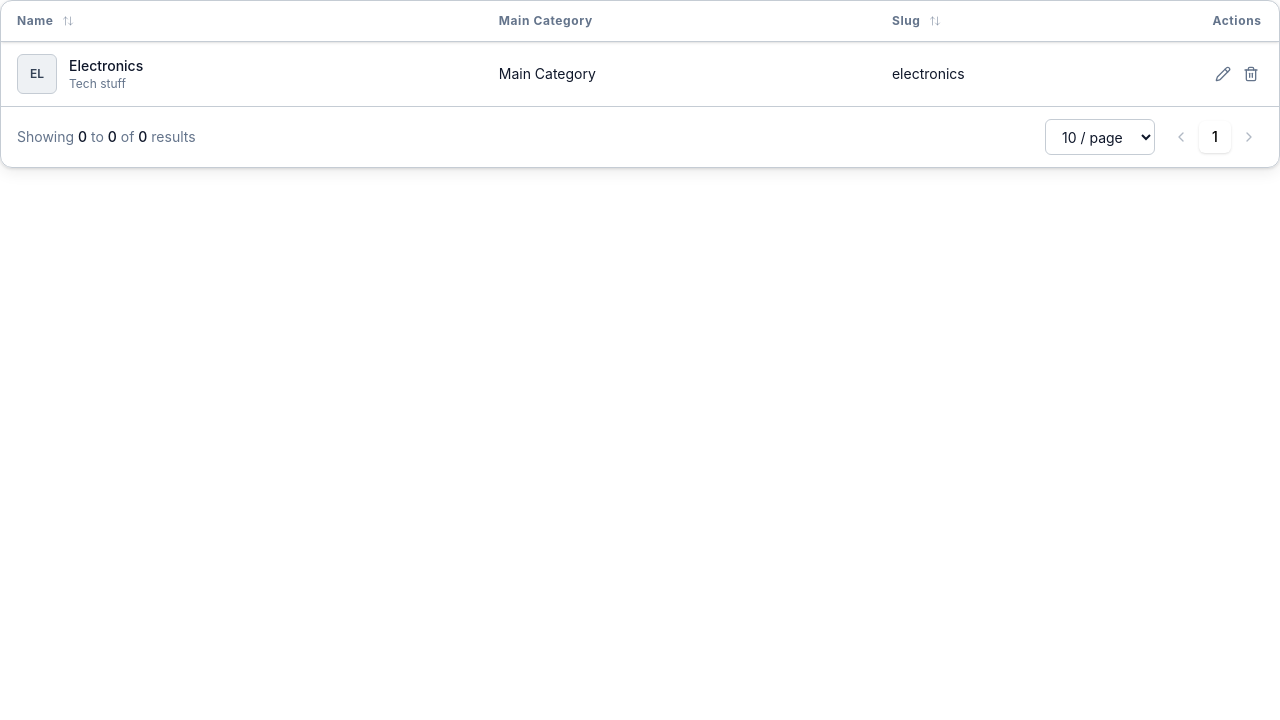
CategoryTable › row actions — canMutate true › clicking Delete opens a confirmation dialog naming the category
This screenshot has width=1280, height=720.
Click the button named "Delete Electronics".
click(1251, 74)  # box [1239,62,1263,86]
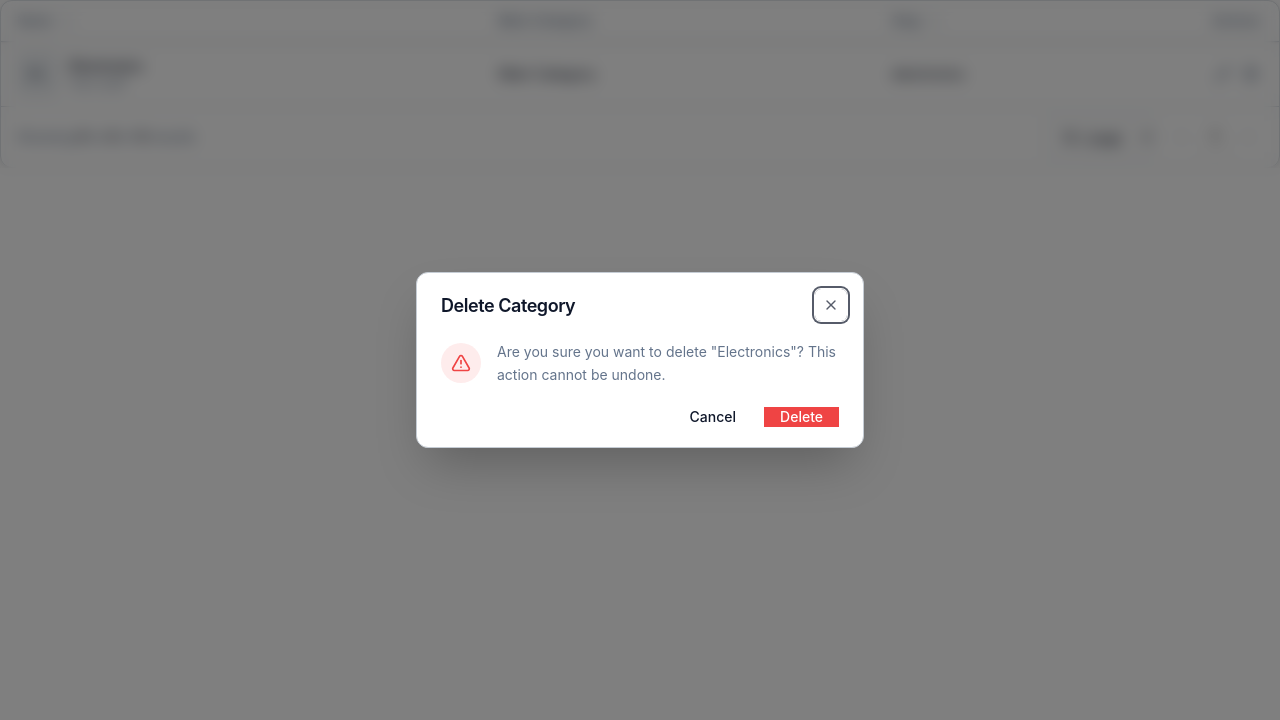
Expected: the text "Delete Category" is shown, [441,295,575,316]
Expected: the text "Are you sure you want to delete \"Electronics\"" is shown, [497,343,836,383]
